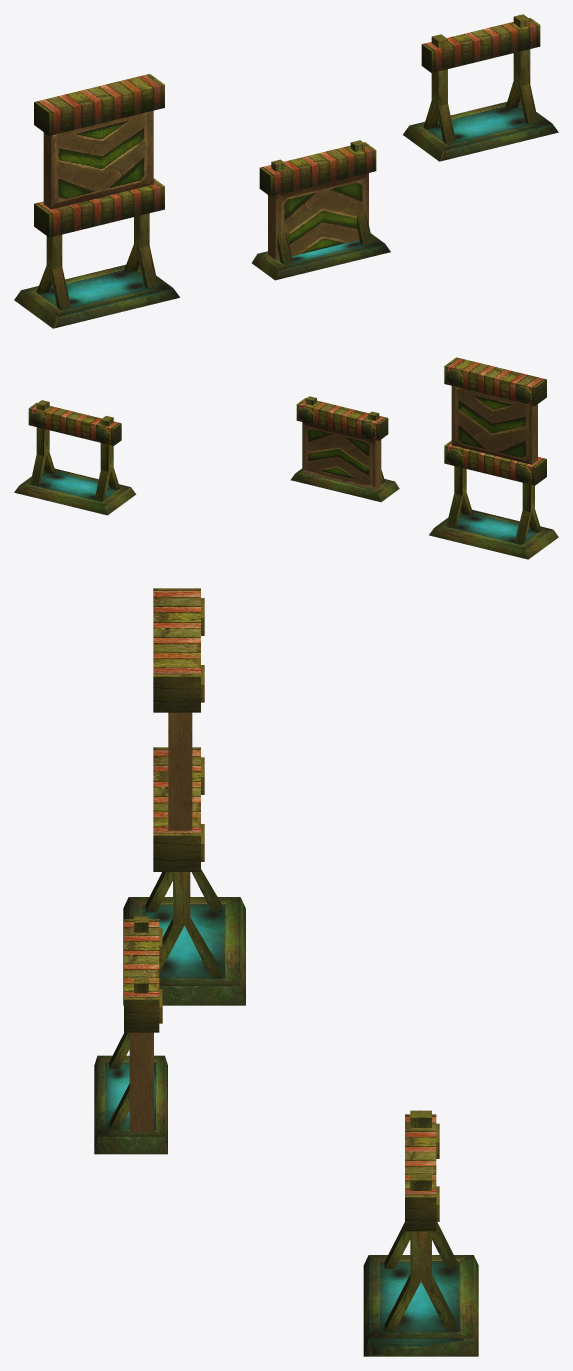
The model's file is chan1(1)new.fbx.
3 views of the same model, one above another, from view 1: azimuth 30°, elevation 25°; view 2: azimuth 150°, elevation 25°; view 3: azimuth 270°, elevation 25° (orthographic). The views are drawn at different scales.
Visible parts, largest first — view 1: pCube142, pCube22, pCube59; view 2: pCube142, pCube22, pCube59; view 3: pCube142, pCube59, pCube22.
Part boxes in pixels (left/top/right/bottom): pCube142: left=14, top=74, right=179, bottom=328; pCube22: left=252, top=140, right=390, bottom=280; pCube59: left=403, top=14, right=558, bottom=161; pCube142: left=429, top=357, right=558, bottom=559; pCube22: left=290, top=396, right=399, bottom=501; pCube59: left=14, top=400, right=136, bottom=515; pCube142: left=123, top=588, right=245, bottom=1005; pCube59: left=363, top=1110, right=478, bottom=1356; pCube22: left=94, top=915, right=167, bottom=1154.
Size of the model in its own units: 853 by 293 by 311.
Materials: 2 (2 with a texture image).
